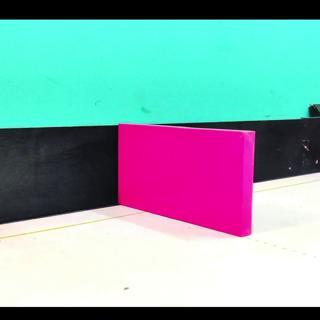xparking: (119, 135, 247, 235)
